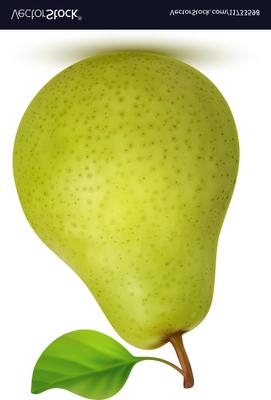pear: (0, 0, 271, 400)
